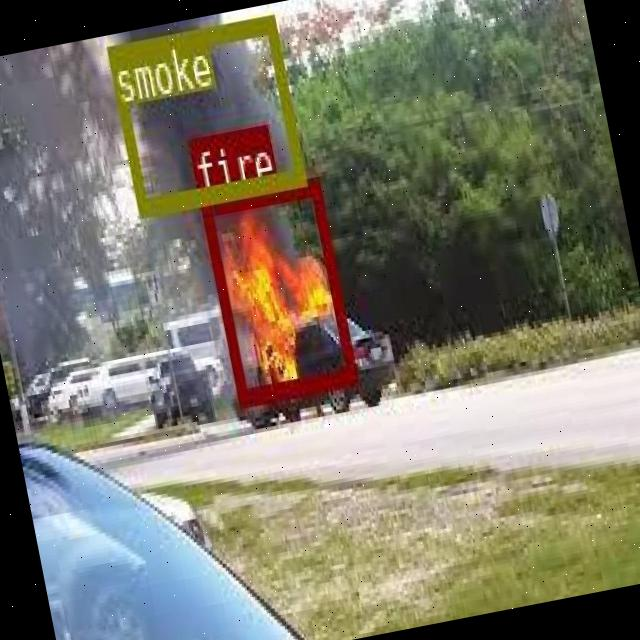fire: (198, 176, 356, 404)
smoke: (106, 12, 304, 215)
